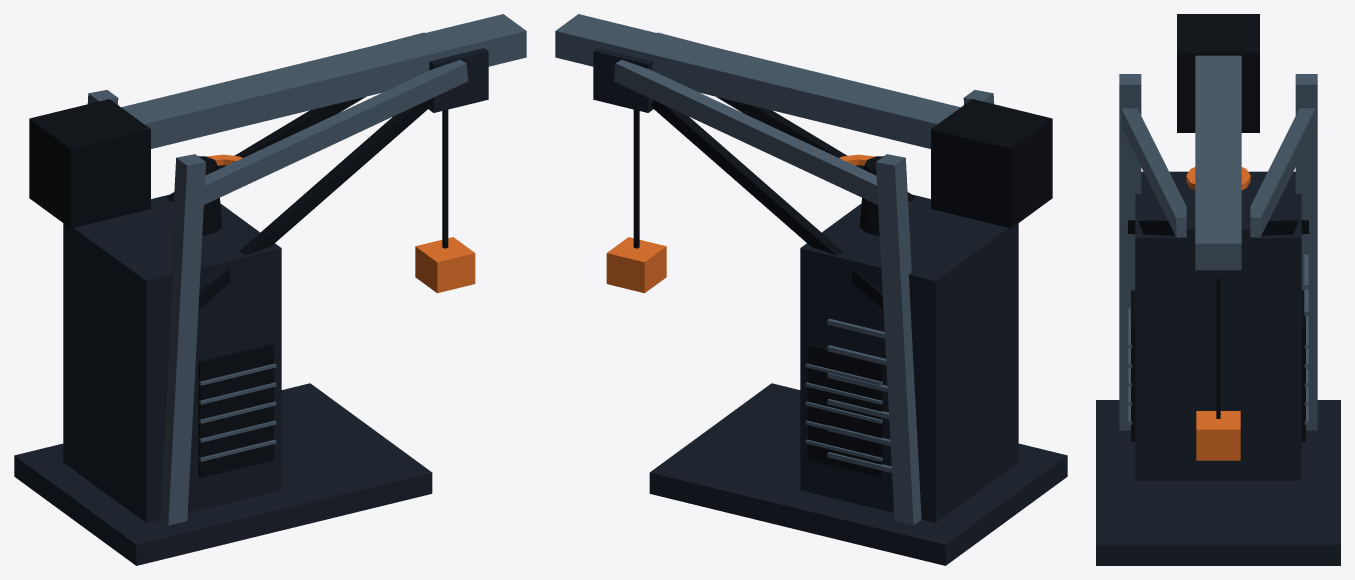
The model's file is chaos_service_crane.obj.
3 renders of one model, left to right at view 1: azimuth 30°, elevation 25°; view 2: azimuth 150°, elevation 25°; view 3: azimuth 270°, elevation 25°, orthographic.
Parts seen in each view (by area): view 1: AsymmetricHousing, InsetConcreteFoot, CraneUpperSpine, Counterweight, MainFrame1, FrontVents1, ArmDiagonal1, ArmLowerTie1, HookHousing, ToolCarriage, ArmLowerTie-1, HangingCable (+1 smaller); view 2: AsymmetricHousing, InsetConcreteFoot, CraneUpperSpine, Counterweight, MainFrame-1, ArmDiagonal-1, FrontVents-1, ArmLowerTie-1, HookHousing, ToolCarriage, ArmLowerTie1, HangingCable (+1 smaller); view 3: AsymmetricHousing, InsetConcreteFoot, CraneUpperSpine, Counterweight, MainFrame1, MainFrame-1, ArmDiagonal-1, ArmDiagonal1, HookHousing, ToolCarriage, FrontVents1, FrontVents-1 (+4 smaller).
Part boxes in pixels (x1,y1,x2,y2): AsymmetricHousing: (63,195,281,522); InsetConcreteFoot: (14,383,432,565); CraneUpperSpine: (121,14,526,148); Counterweight: (29,99,150,228); MainFrame1: (160,154,205,525); FrontVents1: (198,343,274,477); ArmDiagonal1: (204,60,467,204); ArmLowerTie1: (198,100,430,309); HookHousing: (415,237,475,293); ToolCarriage: (428,48,488,112); ArmLowerTie-1: (166,97,365,201); HangingCable: (442,109,448,248); AsymmetricHousing: (800,195,1018,522); InsetConcreteFoot: (649,383,1067,565); CraneUpperSpine: (555,14,960,148); Counterweight: (931,99,1052,228); MainFrame-1: (876,154,921,525); ArmDiagonal-1: (614,60,877,204); FrontVents-1: (807,343,883,477); ArmLowerTie-1: (651,100,883,309); HookHousing: (606,237,666,293); ToolCarriage: (593,48,653,112); ArmLowerTie1: (716,97,915,201); HangingCable: (633,109,639,248); AsymmetricHousing: (1135,171,1301,480); InsetConcreteFoot: (1096,400,1340,565); CraneUpperSpine: (1195,55,1241,270); Counterweight: (1177,14,1259,132); MainFrame1: (1119,74,1141,430); MainFrame-1: (1295,74,1317,430); ArmDiagonal-1: (1250,108,1315,237); ArmDiagonal1: (1121,108,1186,237); HookHousing: (1196,411,1240,460); ToolCarriage: (1186,202,1250,278); FrontVents1: (1131,290,1135,441); FrontVents-1: (1301,290,1305,441).
Size of the model in its own units: 22 by 17.8 by 10.
